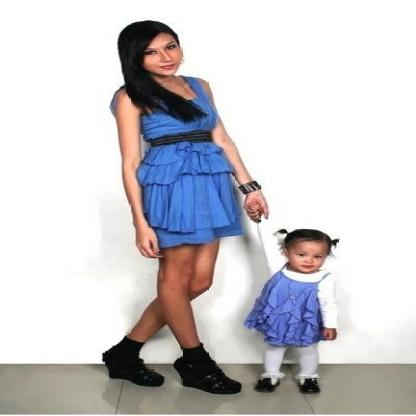dress: (122, 91, 246, 247)
shoe: (102, 336, 240, 394)
